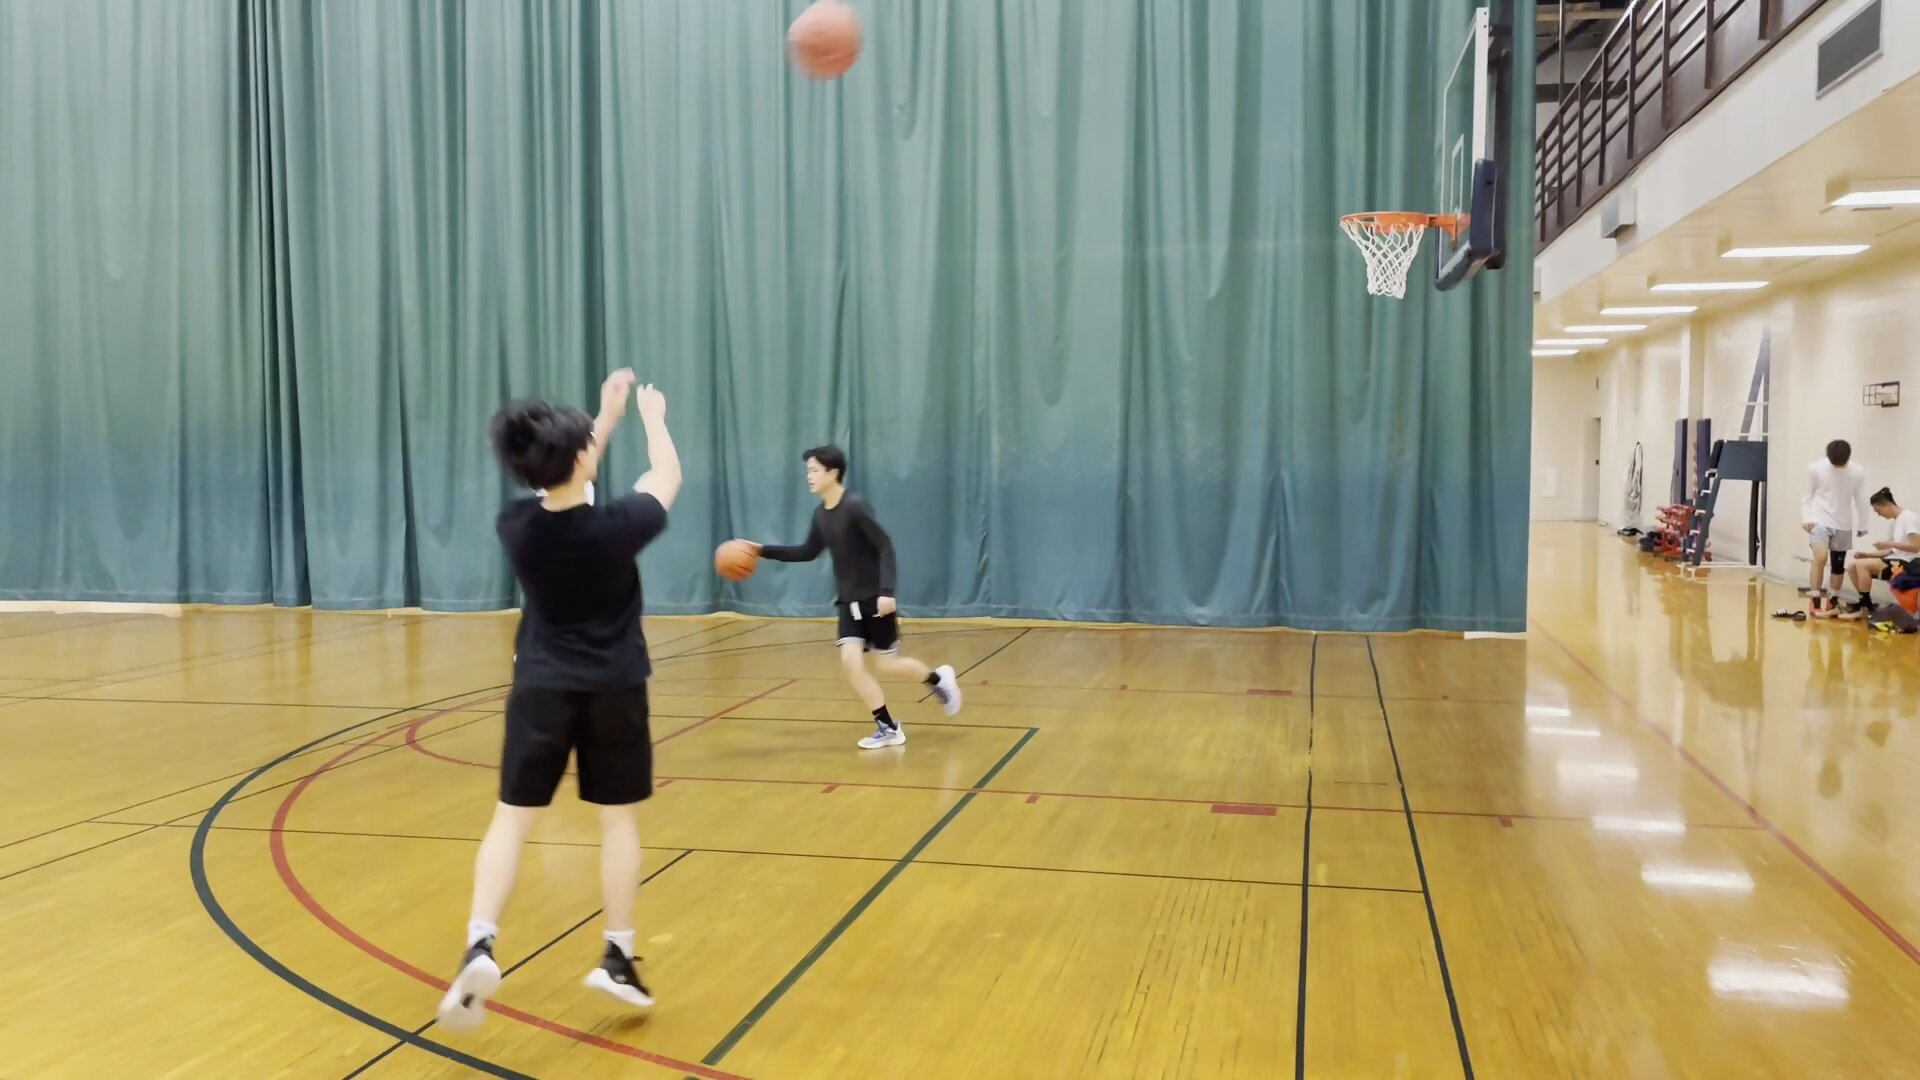ball: (782, 1, 865, 78), (708, 536, 760, 586)
net: (1358, 267, 1421, 303)
player: (451, 365, 678, 1021), (760, 445, 963, 758), (1800, 439, 1863, 625), (1851, 488, 1920, 610)
rim: (1336, 203, 1435, 239)
